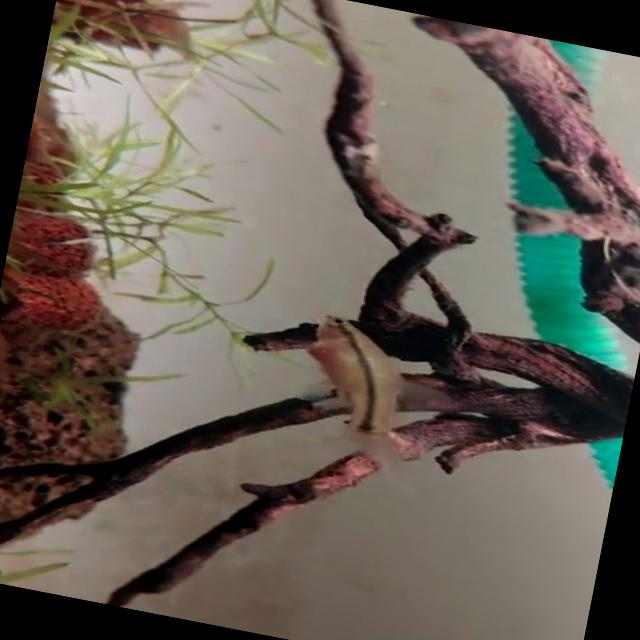Cakil Baligi: (281, 307, 470, 479)
